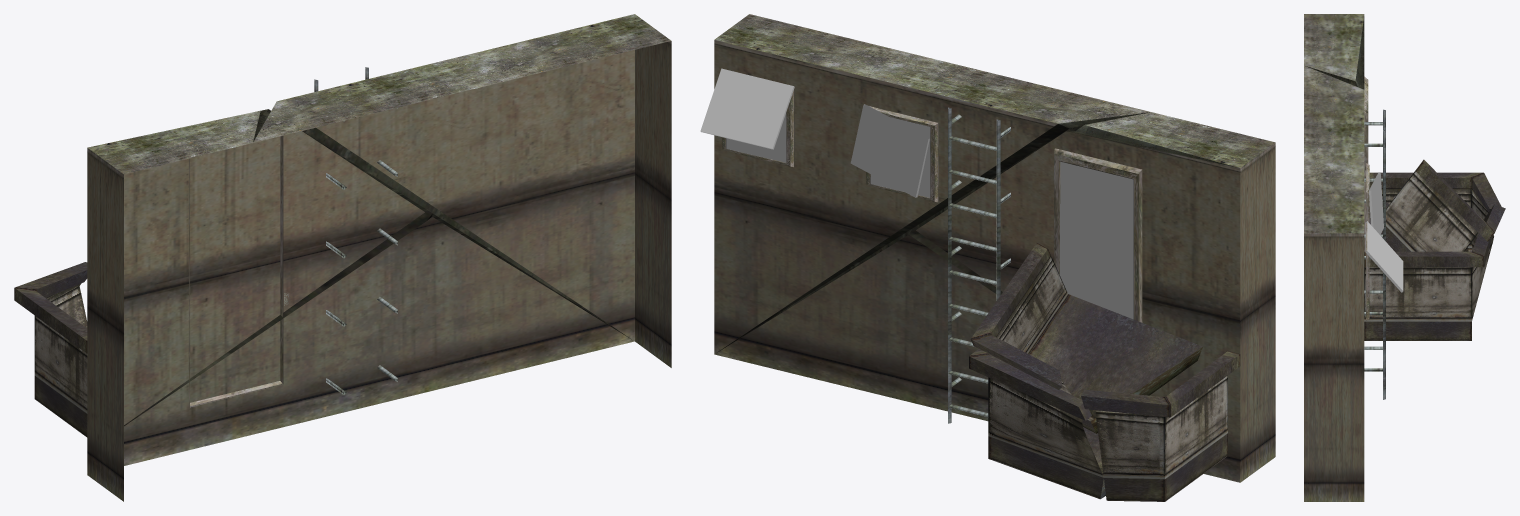
File: Store_front_14_C.fbx
3 renders of one model, left to right at view 1: azimuth 30°, elevation 25°; view 2: azimuth 150°, elevation 25°; view 3: azimuth 270°, elevation 25°, orthographic. The views are drawn at different scales.
Visible parts, largest first — view 1: Store_front_14_C; view 2: Store_front_14_C; view 3: Store_front_14_C.
Boxes of the visible parts, x1,y1,x2,y2 form: Store_front_14_C: [14, 14, 671, 501]; Store_front_14_C: [700, 14, 1275, 501]; Store_front_14_C: [1304, 14, 1505, 501].
Size of the model in its own units: 700 by 400 by 272.
